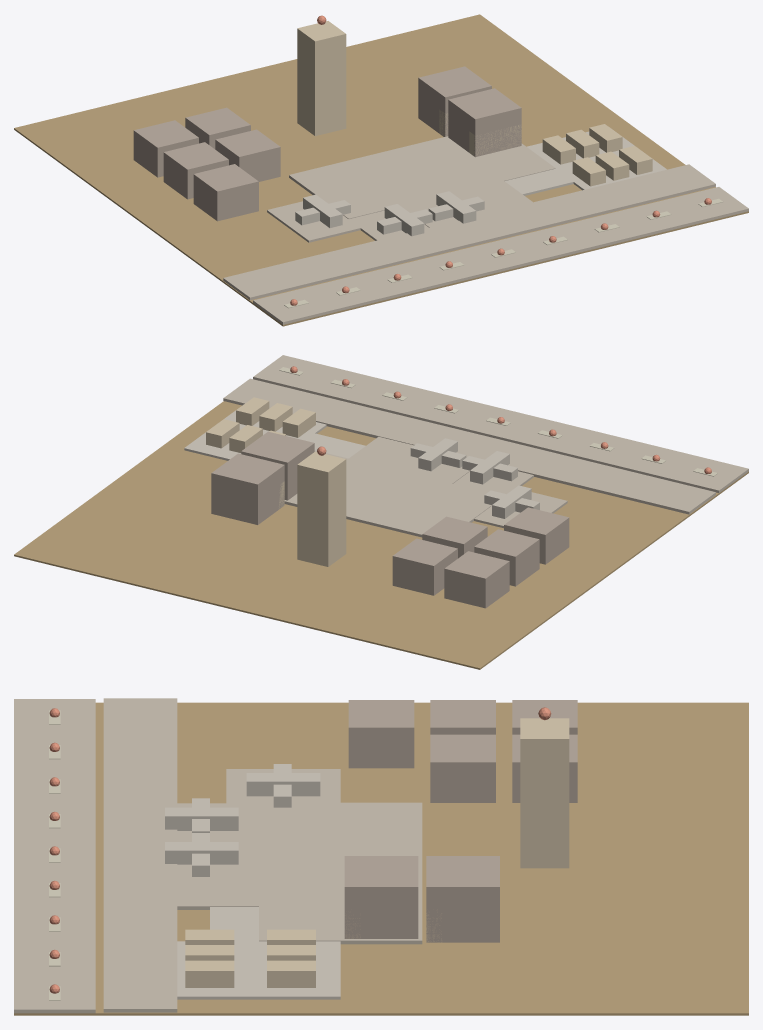
File: stage_19.glb
3 renders of one model, top to bottom at view 1: azimuth 30°, elevation 25°; view 2: azimuth 150°, elevation 25°; view 3: azimuth 270°, elevation 25°, orthographic. The views are drawn at different scales.
Visible parts, largest first — view 1: geometry_0; view 2: geometry_0; view 3: geometry_0.
Boxes of the visible parts, x1,y1,x2,y2 form: geometry_0: (14, 14, 748, 326); geometry_0: (14, 355, 748, 669); geometry_0: (14, 698, 748, 1015).
Size of the model in its own units: 9 by 2.06 by 9.
